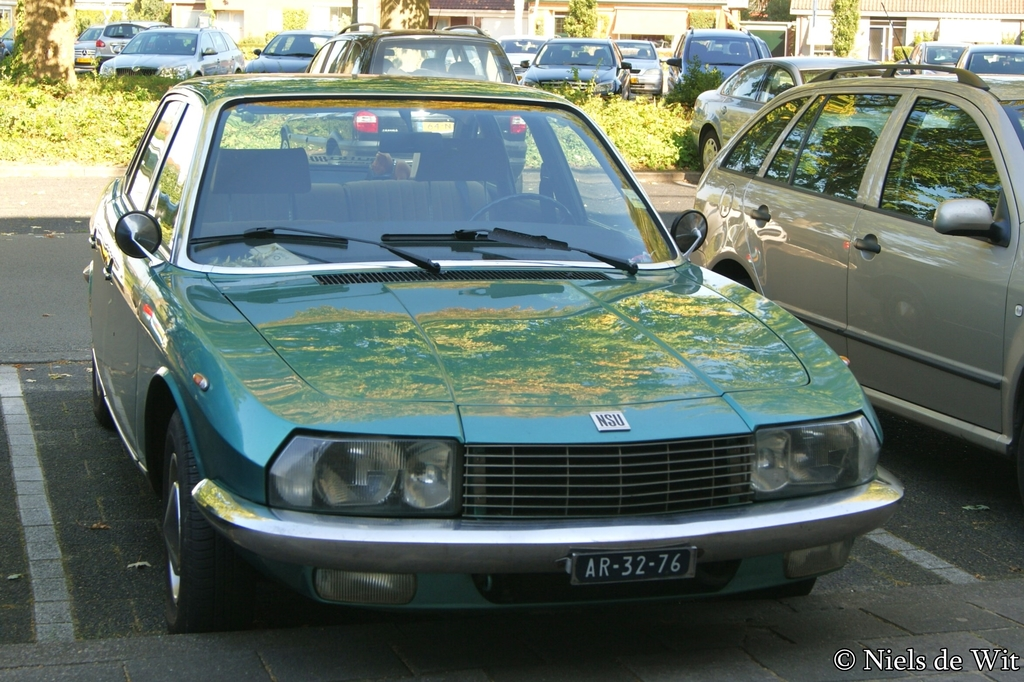Car: (5, 26, 1023, 629)
